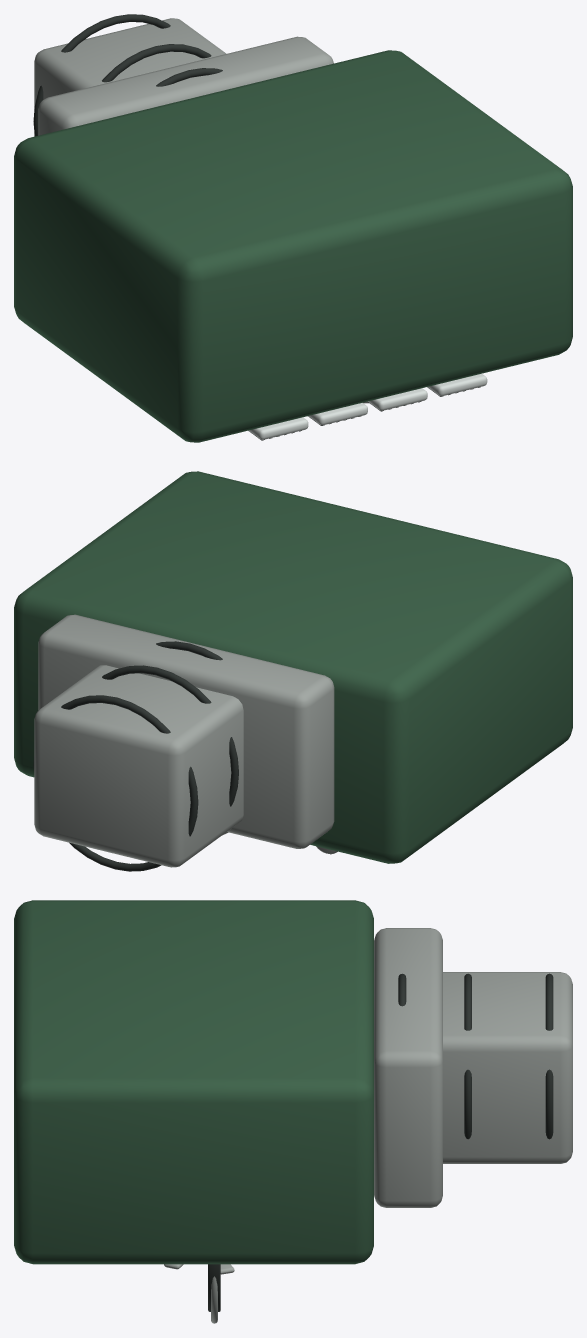
File: ventilation_unit_v3.glb
3 views of the same model, one above another, from view 1: azimuth 30°, elevation 25°; view 2: azimuth 150°, elevation 25°; view 3: azimuth 270°, elevation 25° (orthographic).
Parts seen in each view (by area): view 1: AHU_Body, DuctTop, DuctRise, DuctBand_3.52, DuctBand_3.0, Filter_3, Filter_0, Filter_1, Filter_2; view 2: AHU_Body, DuctRise, DuctTop, DuctBand_3.52, DuctBand_3.0; view 3: AHU_Body, DuctRise, DuctTop, DuctBand_3.52, DuctBand_3.0.
Boxes of the visible parts, x1=… form: AHU_Body: x1=14, y1=50, x2=572, y2=442; DuctTop: x1=38, y1=36, x2=333, y2=135; DuctRise: x1=34, y1=18, x2=226, y2=136; DuctBand_3.52: x1=33, y1=14, x2=170, y2=136; DuctBand_3.0: x1=102, y1=44, x2=211, y2=82; Filter_3: x1=428, y1=373, x2=487, y2=396; Filter_0: x1=249, y1=417, x2=308, y2=439; Filter_1: x1=308, y1=403, x2=367, y2=425; Filter_2: x1=368, y1=388, x2=427, y2=410; AHU_Body: x1=14, y1=471, x2=572, y2=863; DuctRise: x1=34, y1=665, x2=243, y2=867; DuctTop: x1=38, y1=614, x2=334, y2=848; DuctBand_3.52: x1=33, y1=695, x2=198, y2=871; DuctBand_3.0: x1=102, y1=665, x2=238, y2=806; AHU_Body: x1=14, y1=900, x2=373, y2=1264; DuctRise: x1=443, y1=972, x2=572, y2=1163; DuctTop: x1=374, y1=928, x2=442, y2=1207; DuctBand_3.52: x1=545, y1=973, x2=553, y2=1139; DuctBand_3.0: x1=464, y1=973, x2=471, y2=1139.
Bounding box in the file's own units: 2.9 × 2.02 × 3.57.
